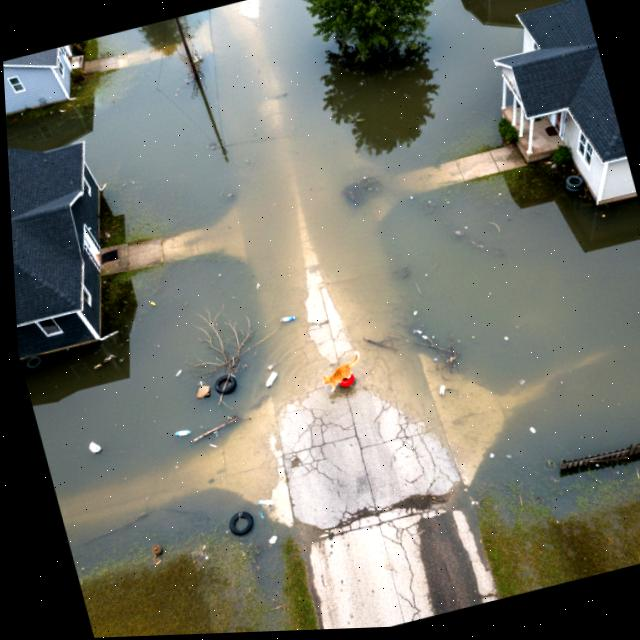cat: (302, 336, 381, 405)
